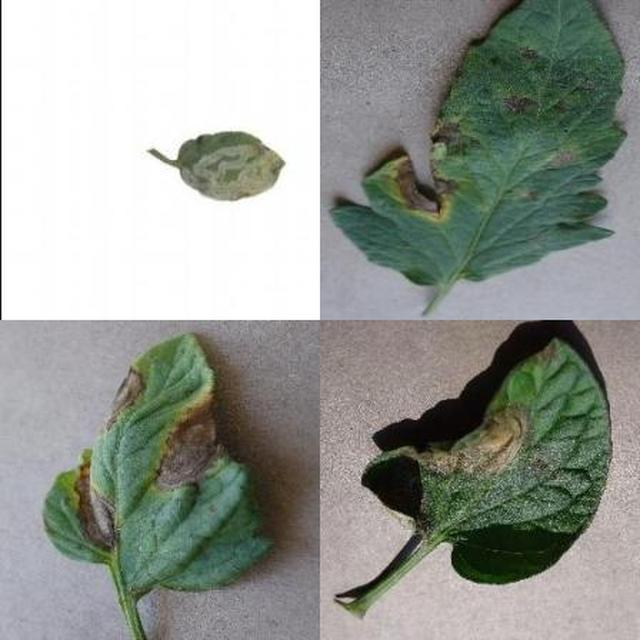Leaf Miner: (157, 102, 640, 640)
